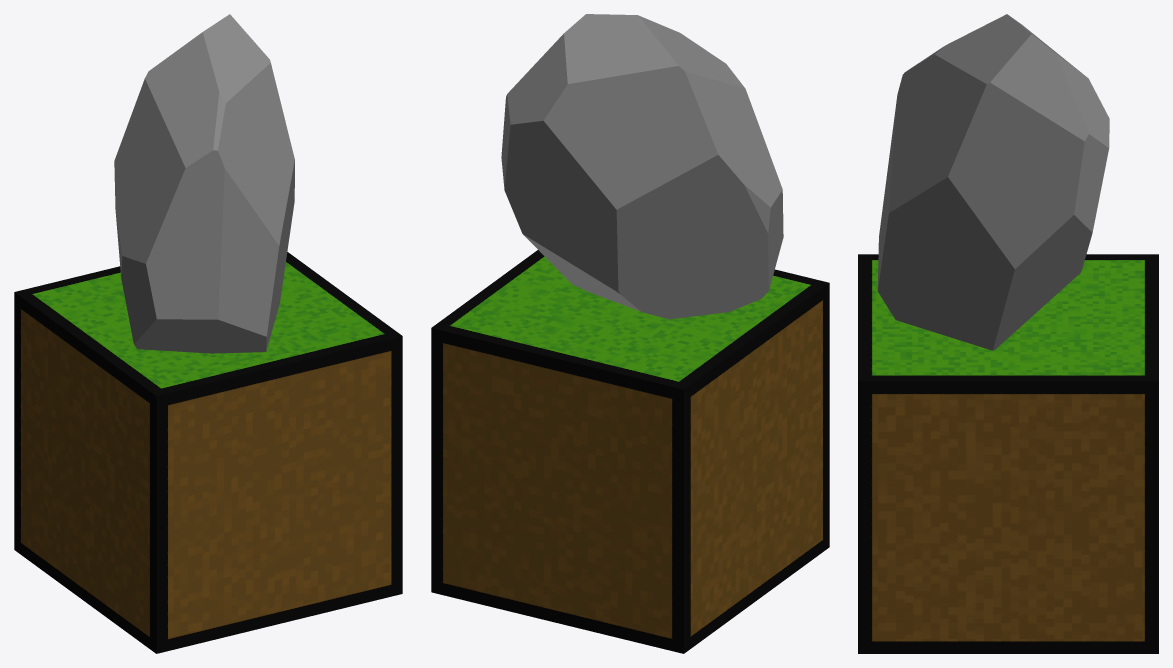
Rendered from FlatRock.glb.
3 views of the same model, side by side, from view 1: azimuth 30°, elevation 25°; view 2: azimuth 150°, elevation 25°; view 3: azimuth 270°, elevation 25° (orthographic). The views are drawn at different scales.
Visible parts, largest first — view 1: Grass_v2Baked, Sphere.002; view 2: Grass_v2Baked, Sphere.002; view 3: Grass_v2Baked, Sphere.002.
Part boxes in pixels (<box>): Grass_v2Baked: <box>14,252,402,653</box>; Sphere.002: <box>114,14,294,353</box>; Grass_v2Baked: <box>431,250,829,653</box>; Sphere.002: <box>501,14,783,319</box>; Grass_v2Baked: <box>858,254,1158,653</box>; Sphere.002: <box>877,14,1109,350</box>.
Bounding box in the file's own units: 0.98 × 2.06 × 0.98.
Materials: 2 (1 with a texture image).
